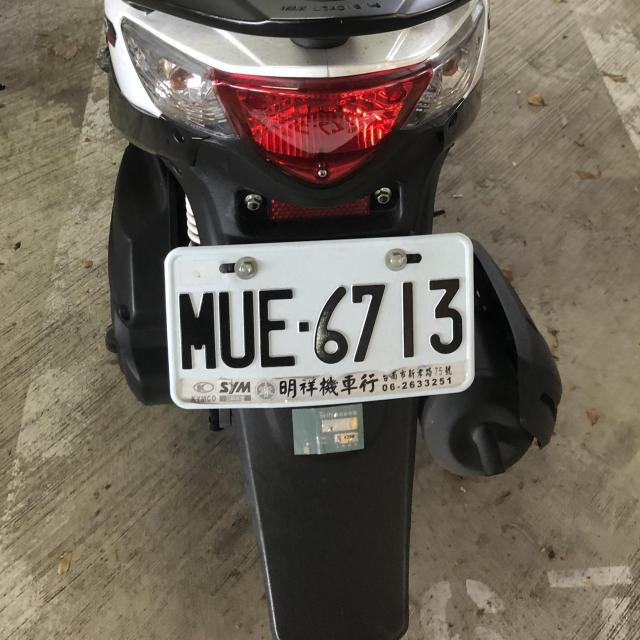W: (158, 232, 479, 413)
